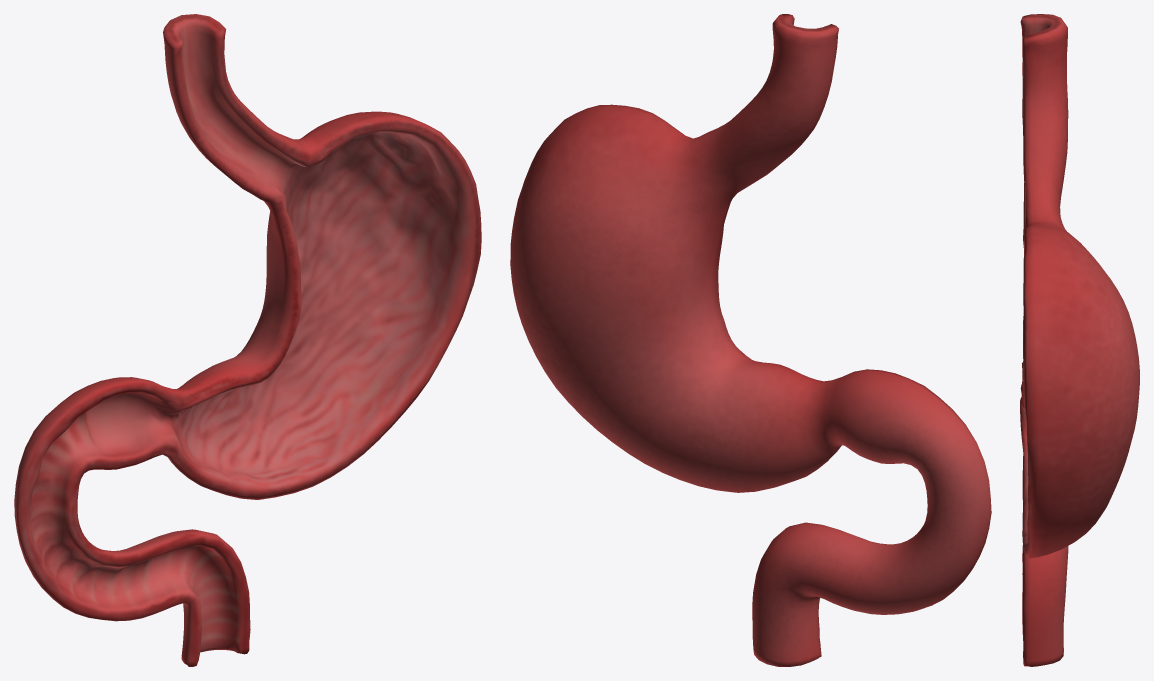
3 views of the same model, side by side, from view 1: azimuth 30°, elevation 25°; view 2: azimuth 150°, elevation 25°; view 3: azimuth 270°, elevation 25° (orthographic). The views are drawn at different scales.
Visible parts, largest first — view 1: STOMACH0_painted; view 2: STOMACH0_painted; view 3: STOMACH0_painted.
Boxes of the visible parts, <box> form: STOMACH0_painted: <box>14,14,481,666</box>; STOMACH0_painted: <box>510,14,991,666</box>; STOMACH0_painted: <box>1020,14,1139,666</box>.
Size of the model in its own units: 0.0112 by 0.0147 by 0.00256.
Materials: 1 (1 with a texture image).
